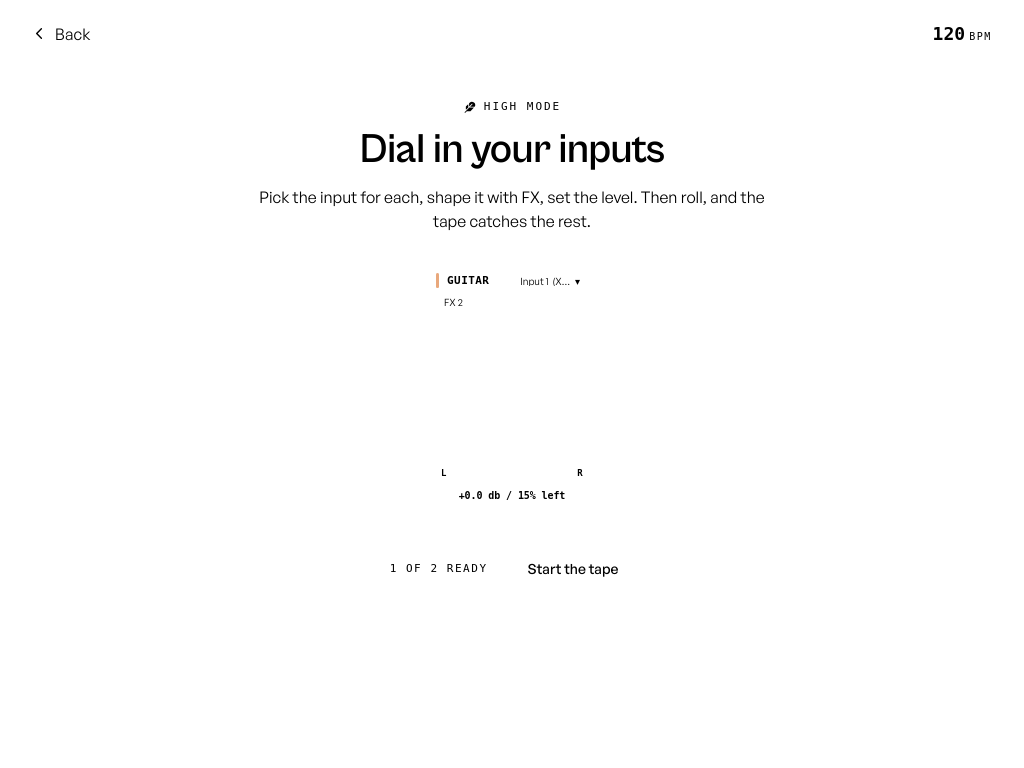
Test case: HighMode — setup FX (host-driven, presentational) › renders an instrument's FX chain straight from props
Click the button with aria-label "Guitar FX".
click(453, 302)  # box [436,292,471,312]
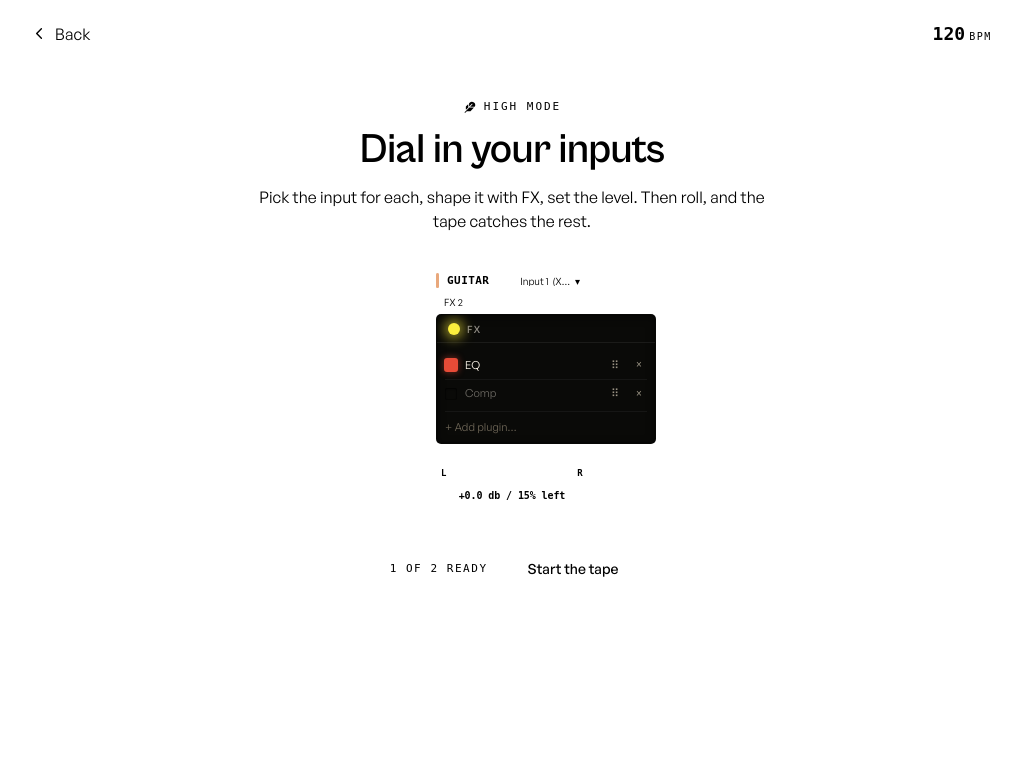
Check: the checkbox named "EQ" is shown, box [445,359,457,371]
